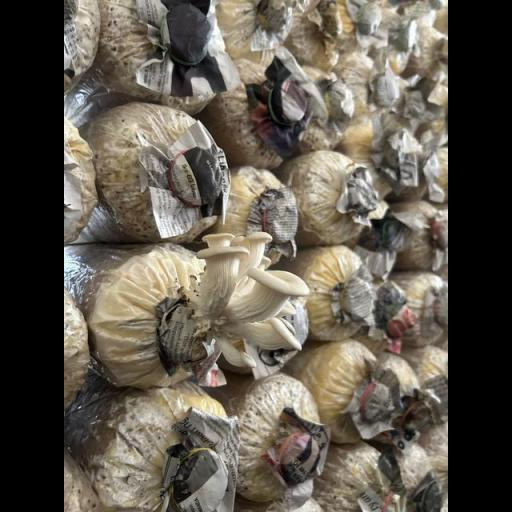White Oyster Mushroom: (179, 218, 311, 369)
